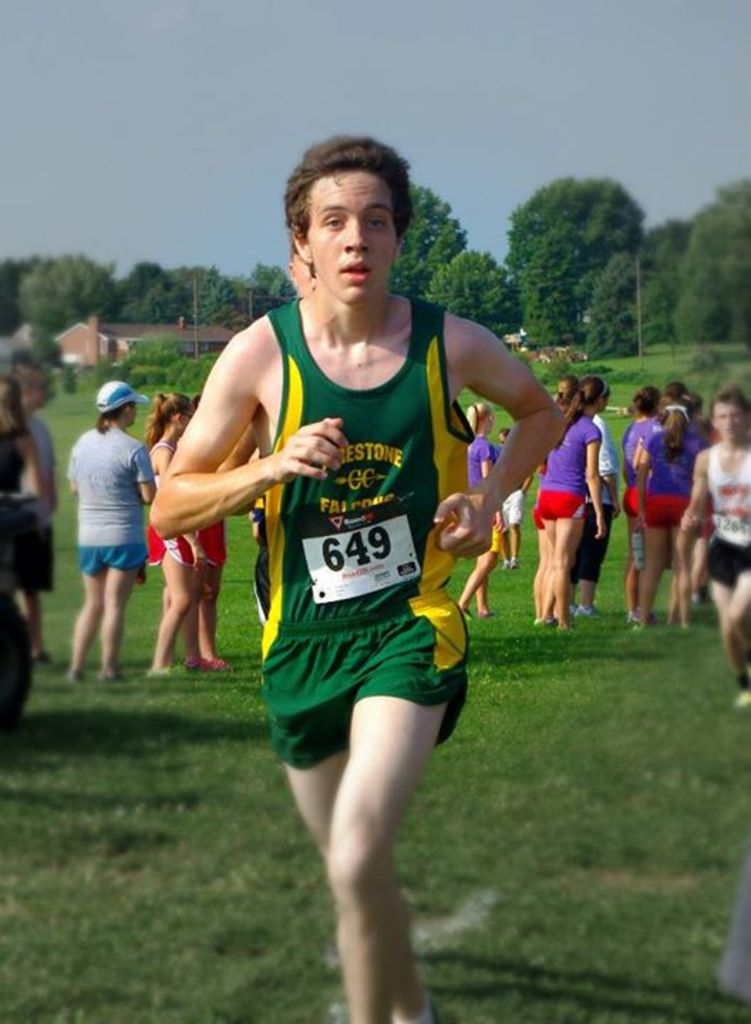Person: (0, 132, 750, 1024)
